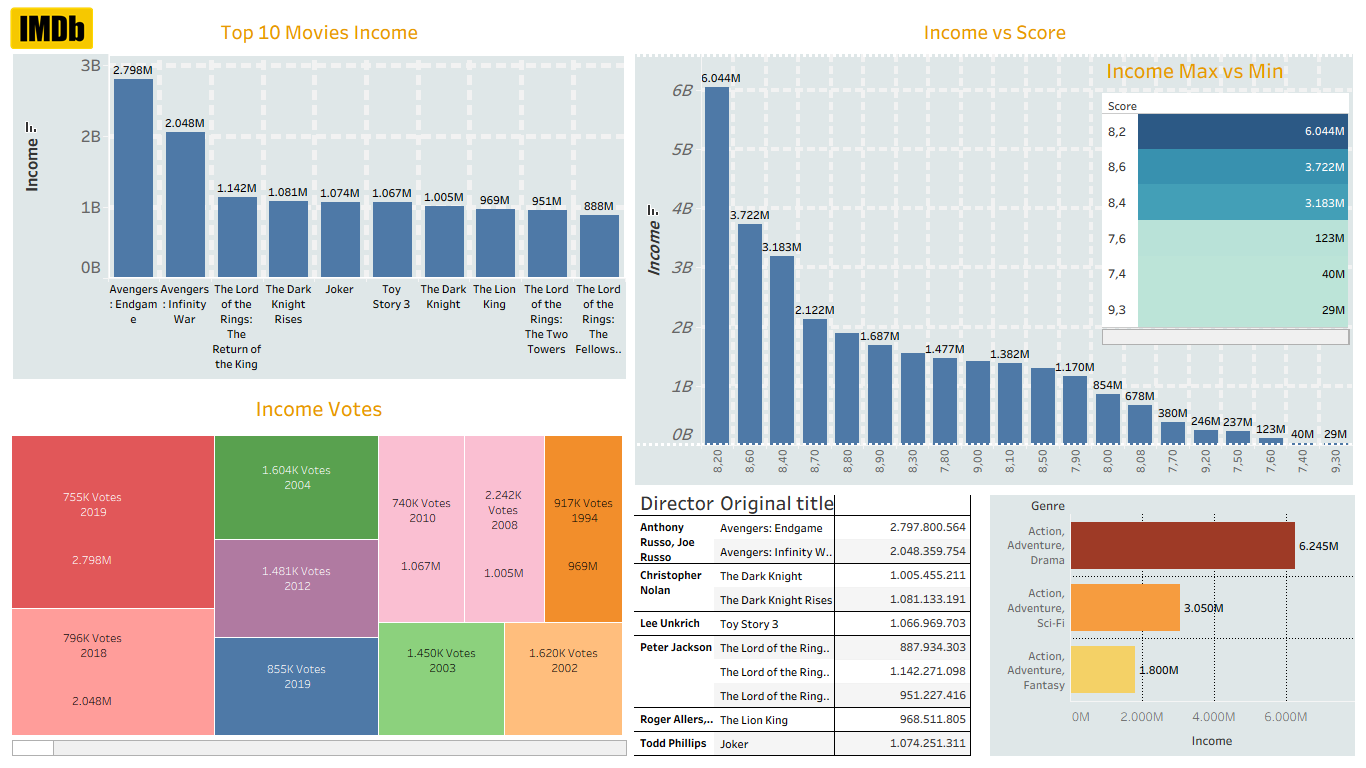

This screenshot's page, from the dashboard's own definition file:
{"tool":"tableau","page":{"name":"Dashboard 1","canvas":[1366,768],"ordinal":0},"visuals":[{"type":"image","param":"C:/Users/PLN/Downloads/IMDB_Logo_2016.svg.png","box":[10,7,95,42]},{"type":"worksheet","title":"Top 10 Movies Income","mark":"Automatic","rows":["Income"],"cols":["Original title"],"box":[8,8,622,376]},{"type":"worksheet","title":"Income vs Score","mark":"Automatic","rows":["Income"],"cols":["Score"],"box":[630,8,728,483]},{"type":"worksheet","title":"Income Max vs Min","mark":"Square","rows":["Score"],"box":[1102,50,247,295]},{"type":"worksheet","title":"Income Votes","mark":"Automatic","box":[8,384,622,376]},{"type":"worksheet","title":"Director Top 10 Movies","mark":"Automatic","rows":["Director","Original title"],"box":[630,491,356,269]},{"type":"worksheet","title":"Income vs Genre","mark":"Automatic","rows":["Genre"],"cols":["Income"],"box":[986,491,372,269]}]}

Visuals, with their boxes in screenshot pixels (x1, y1, x2, y2), scaled from the page's 1366x768 canvas onto the 1366x768 screenshot:
image: bbox=[10, 7, 105, 49]
"Top 10 Movies Income" worksheet: bbox=[8, 8, 630, 384]
"Income vs Score" worksheet: bbox=[630, 8, 1358, 491]
"Income Max vs Min" worksheet (Square marks): bbox=[1102, 50, 1349, 345]
"Income Votes" worksheet: bbox=[8, 384, 630, 760]
"Director Top 10 Movies" worksheet: bbox=[630, 491, 986, 760]
"Income vs Genre" worksheet: bbox=[986, 491, 1358, 760]
